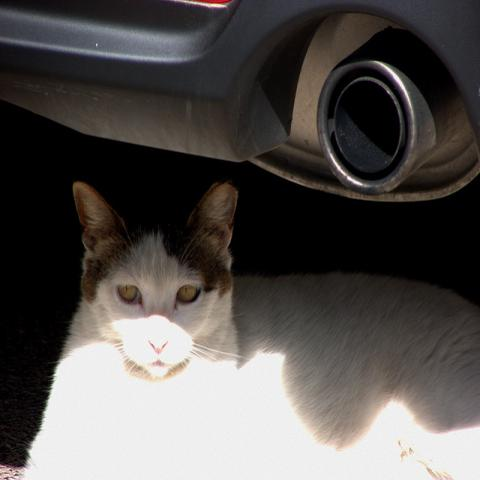car: (2, 1, 478, 203)
